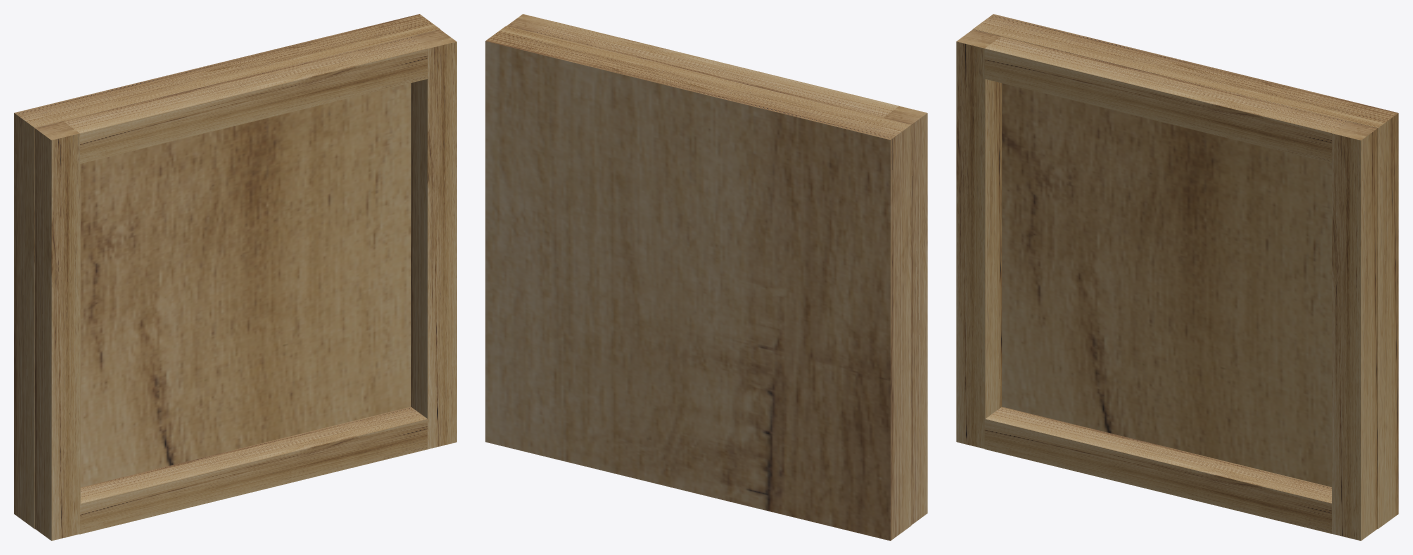
File: WoodContainer.fbx
The picture shows the model from 3 angles, left to right: view 1: azimuth 30°, elevation 25°; view 2: azimuth 150°, elevation 25°; view 3: azimuth 330°, elevation 25°; orthographic projection.
Visible parts, largest first — view 1: Cube.001, Cube.002, Cube.003, Cube.005, Cube.004; view 2: Cube.001, Cube.002, Cube.005; view 3: Cube.001, Cube.003, Cube.002, Cube.005, Cube.004.
Part boxes in pixels (left/top/right/bottom): Cube.001: left=14, top=14, right=439, bottom=528; Cube.002: left=35, top=121, right=80, bottom=540; Cube.003: left=411, top=29, right=456, bottom=449; Cube.005: left=63, top=36, right=427, bottom=163; Cube.004: left=80, top=407, right=427, bottom=534; Cube.001: left=485, top=26, right=911, bottom=540; Cube.002: left=883, top=106, right=927, bottom=524; Cube.005: left=536, top=21, right=898, bottom=117; Cube.001: left=973, top=14, right=1398, bottom=528; Cube.003: left=1332, top=121, right=1377, bottom=540; Cube.002: left=956, top=29, right=1001, bottom=448; Cube.005: left=984, top=36, right=1348, bottom=163; Cube.004: left=984, top=407, right=1331, bottom=533.
Bounding box in the file's own units: 212 × 200 × 33.87.
